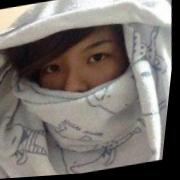WRONG: (29, 26, 138, 140)
